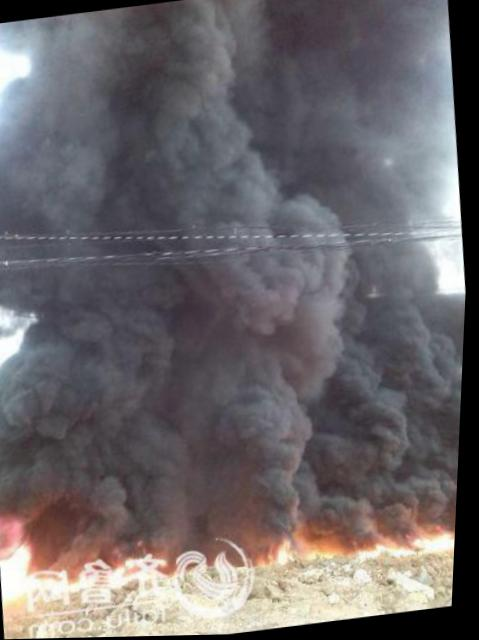fire: (3, 540, 42, 590), (301, 532, 357, 562), (361, 539, 423, 561), (419, 530, 459, 557), (272, 542, 302, 566)
